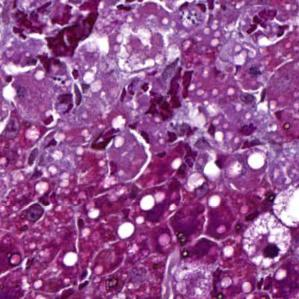ballooning: (238, 210, 294, 272)
